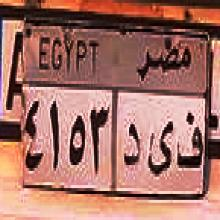1: (46, 97, 63, 166)
3: (86, 99, 113, 178)
4: (22, 99, 42, 176)
5: (68, 113, 86, 165)
daal: (122, 116, 144, 167)
faa: (172, 112, 206, 174)
yaa: (146, 113, 172, 182)
